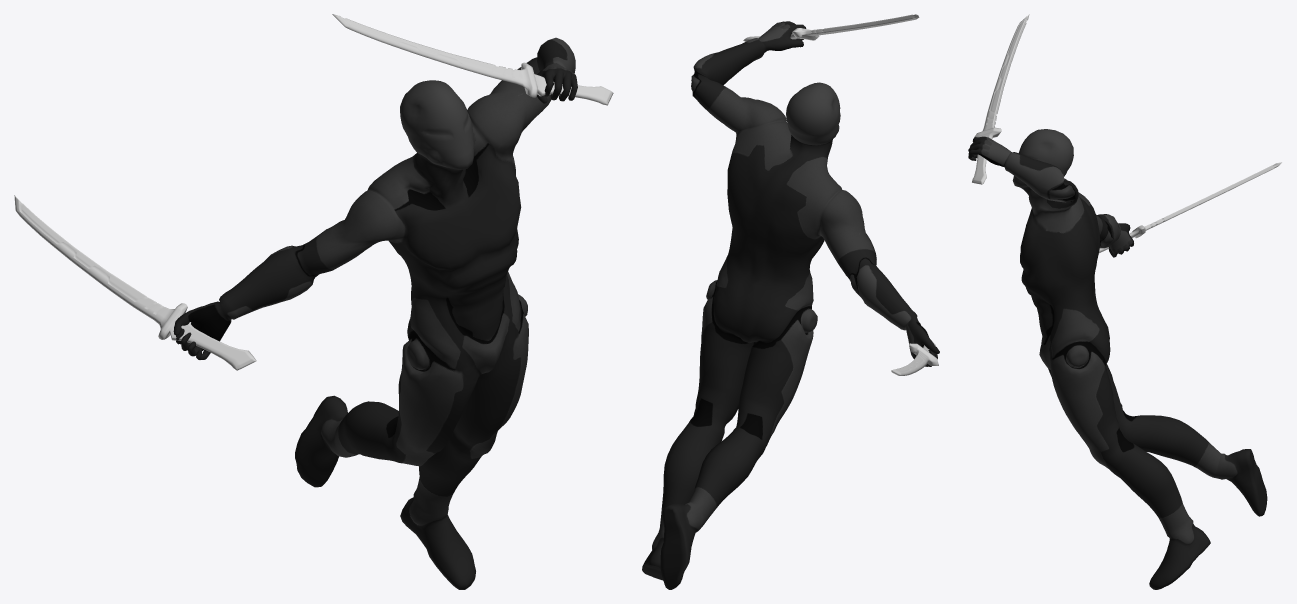
3 renders of one model, left to right at view 1: azimuth 30°, elevation 25°; view 2: azimuth 150°, elevation 25°; view 3: azimuth 270°, elevation 25°, orthographic. The views are drawn at different scales.
Visible parts, largest first — view 1: Cyborg_Ninja_Killer, Sword_l001, Sword_l; view 2: Cyborg_Ninja_Killer, Sword_l, Sword_l001; view 3: Cyborg_Ninja_Killer, Sword_l, Sword_l001.
Part boxes in pixels (x1=…): Cyborg_Ninja_Killer: x1=173, y1=37, x2=577, y2=589; Sword_l001: x1=14, y1=195, x2=256, y2=370; Sword_l: x1=332, y1=14, x2=613, y2=105; Cyborg_Ninja_Killer: x1=642, y1=21, x2=939, y2=589; Sword_l: x1=743, y1=14, x2=919, y2=41; Sword_l001: x1=891, y1=342, x2=938, y2=375; Cyborg_Ninja_Killer: x1=968, y1=129, x2=1267, y2=589; Sword_l: x1=972, y1=14, x2=1029, y2=184; Sword_l001: x1=1099, y1=162, x2=1281, y2=253.
Size of the model in its own units: 130 by 212 by 121.
